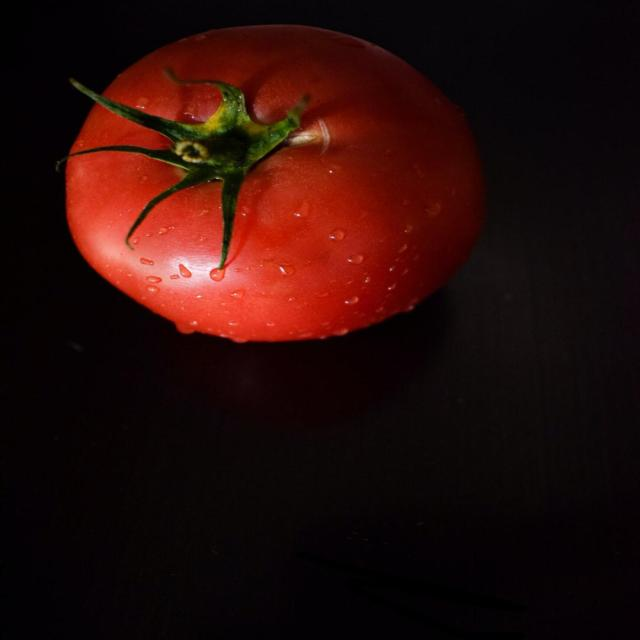Tomato: (56, 27, 487, 361)
